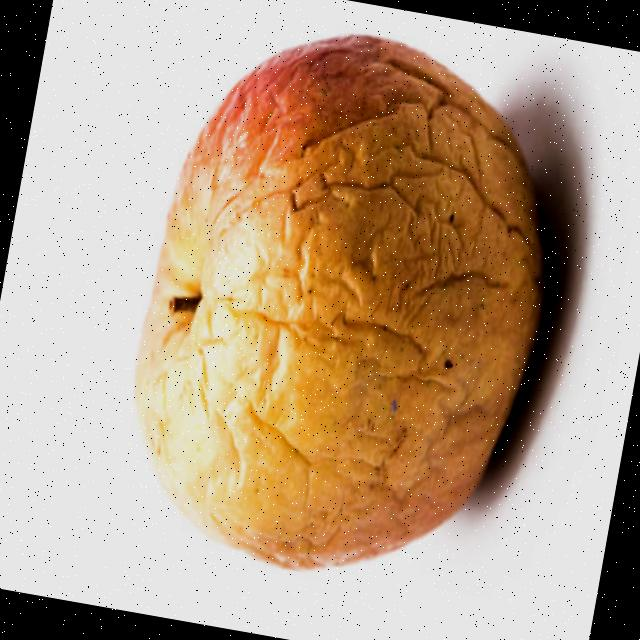overripe: (96, 0, 585, 611)
